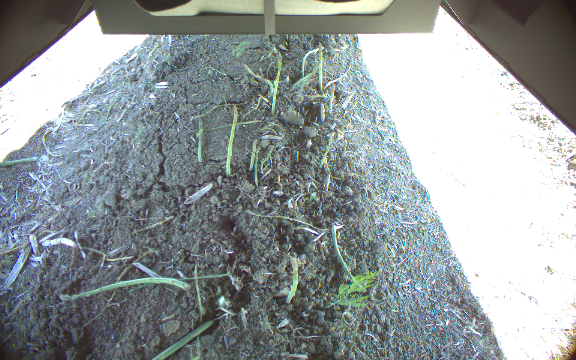aspa: (224, 104, 240, 179), (270, 51, 284, 117), (284, 256, 300, 306), (316, 40, 324, 94), (247, 137, 258, 172)
